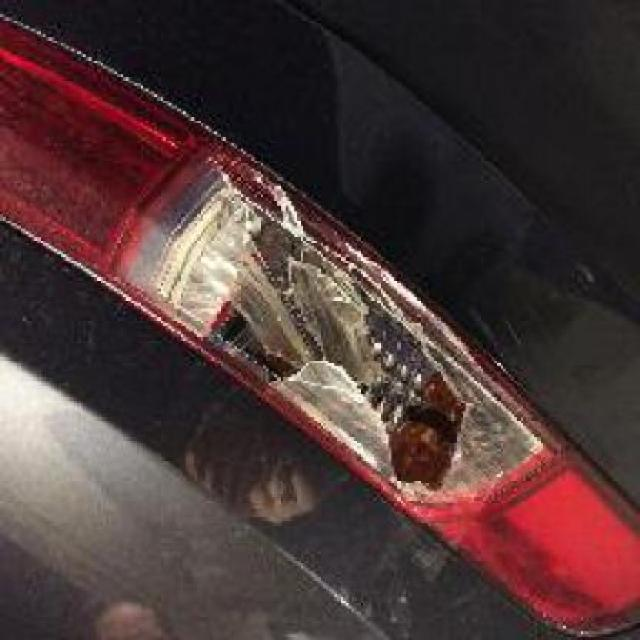damaged-tail-light: (2, 29, 638, 632)
